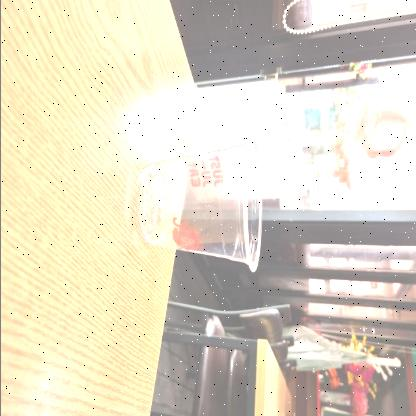Others: (130, 132, 266, 280)
